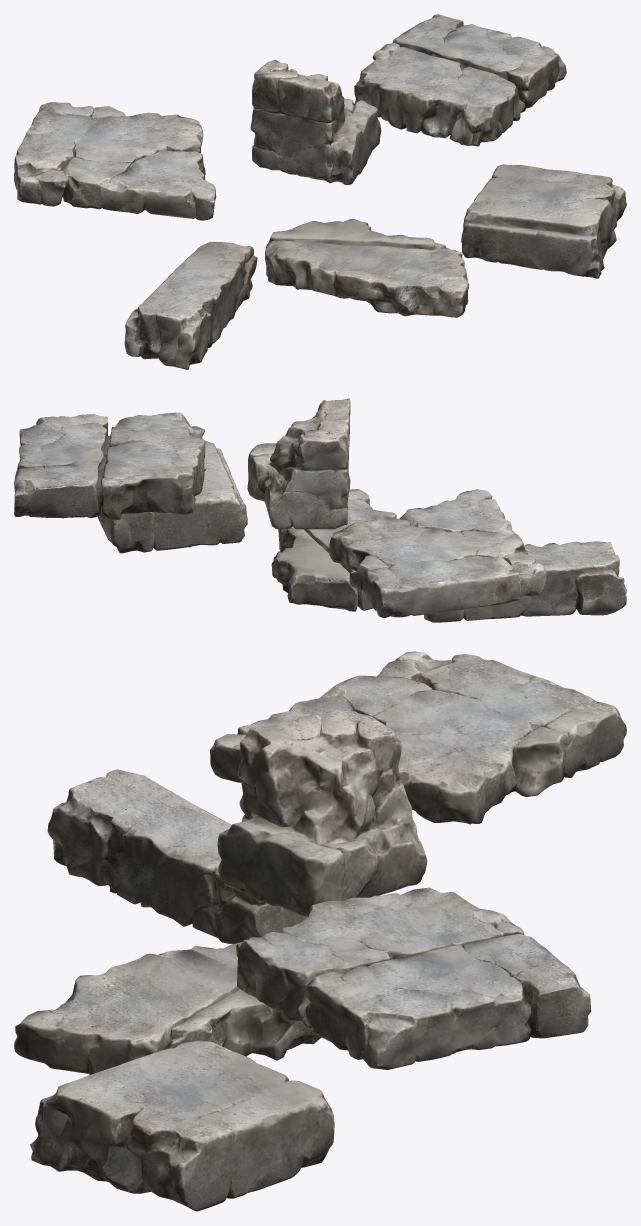
Rendered from ladrillos.glb.
The picture shows the model from 3 angles, top to bottom: view 1: azimuth 30°, elevation 25°; view 2: azimuth 150°, elevation 25°; view 3: azimuth 270°, elevation 25°; orthographic projection. The views are drawn at different scales.
Visible parts, largest first — view 1: tripo_node_e48c2960-55a7-408b-a67a-15c299327a16; view 2: tripo_node_e48c2960-55a7-408b-a67a-15c299327a16; view 3: tripo_node_e48c2960-55a7-408b-a67a-15c299327a16.
Boxes of the visible parts, x1,y1,x2,y2 form: tripo_node_e48c2960-55a7-408b-a67a-15c299327a16: (14,14,626,369); tripo_node_e48c2960-55a7-408b-a67a-15c299327a16: (14,398,626,622); tripo_node_e48c2960-55a7-408b-a67a-15c299327a16: (14,651,626,1211).
Size of the model in its own units: 1 by 0.3364 by 0.6541.
1 material, 1 textured.
